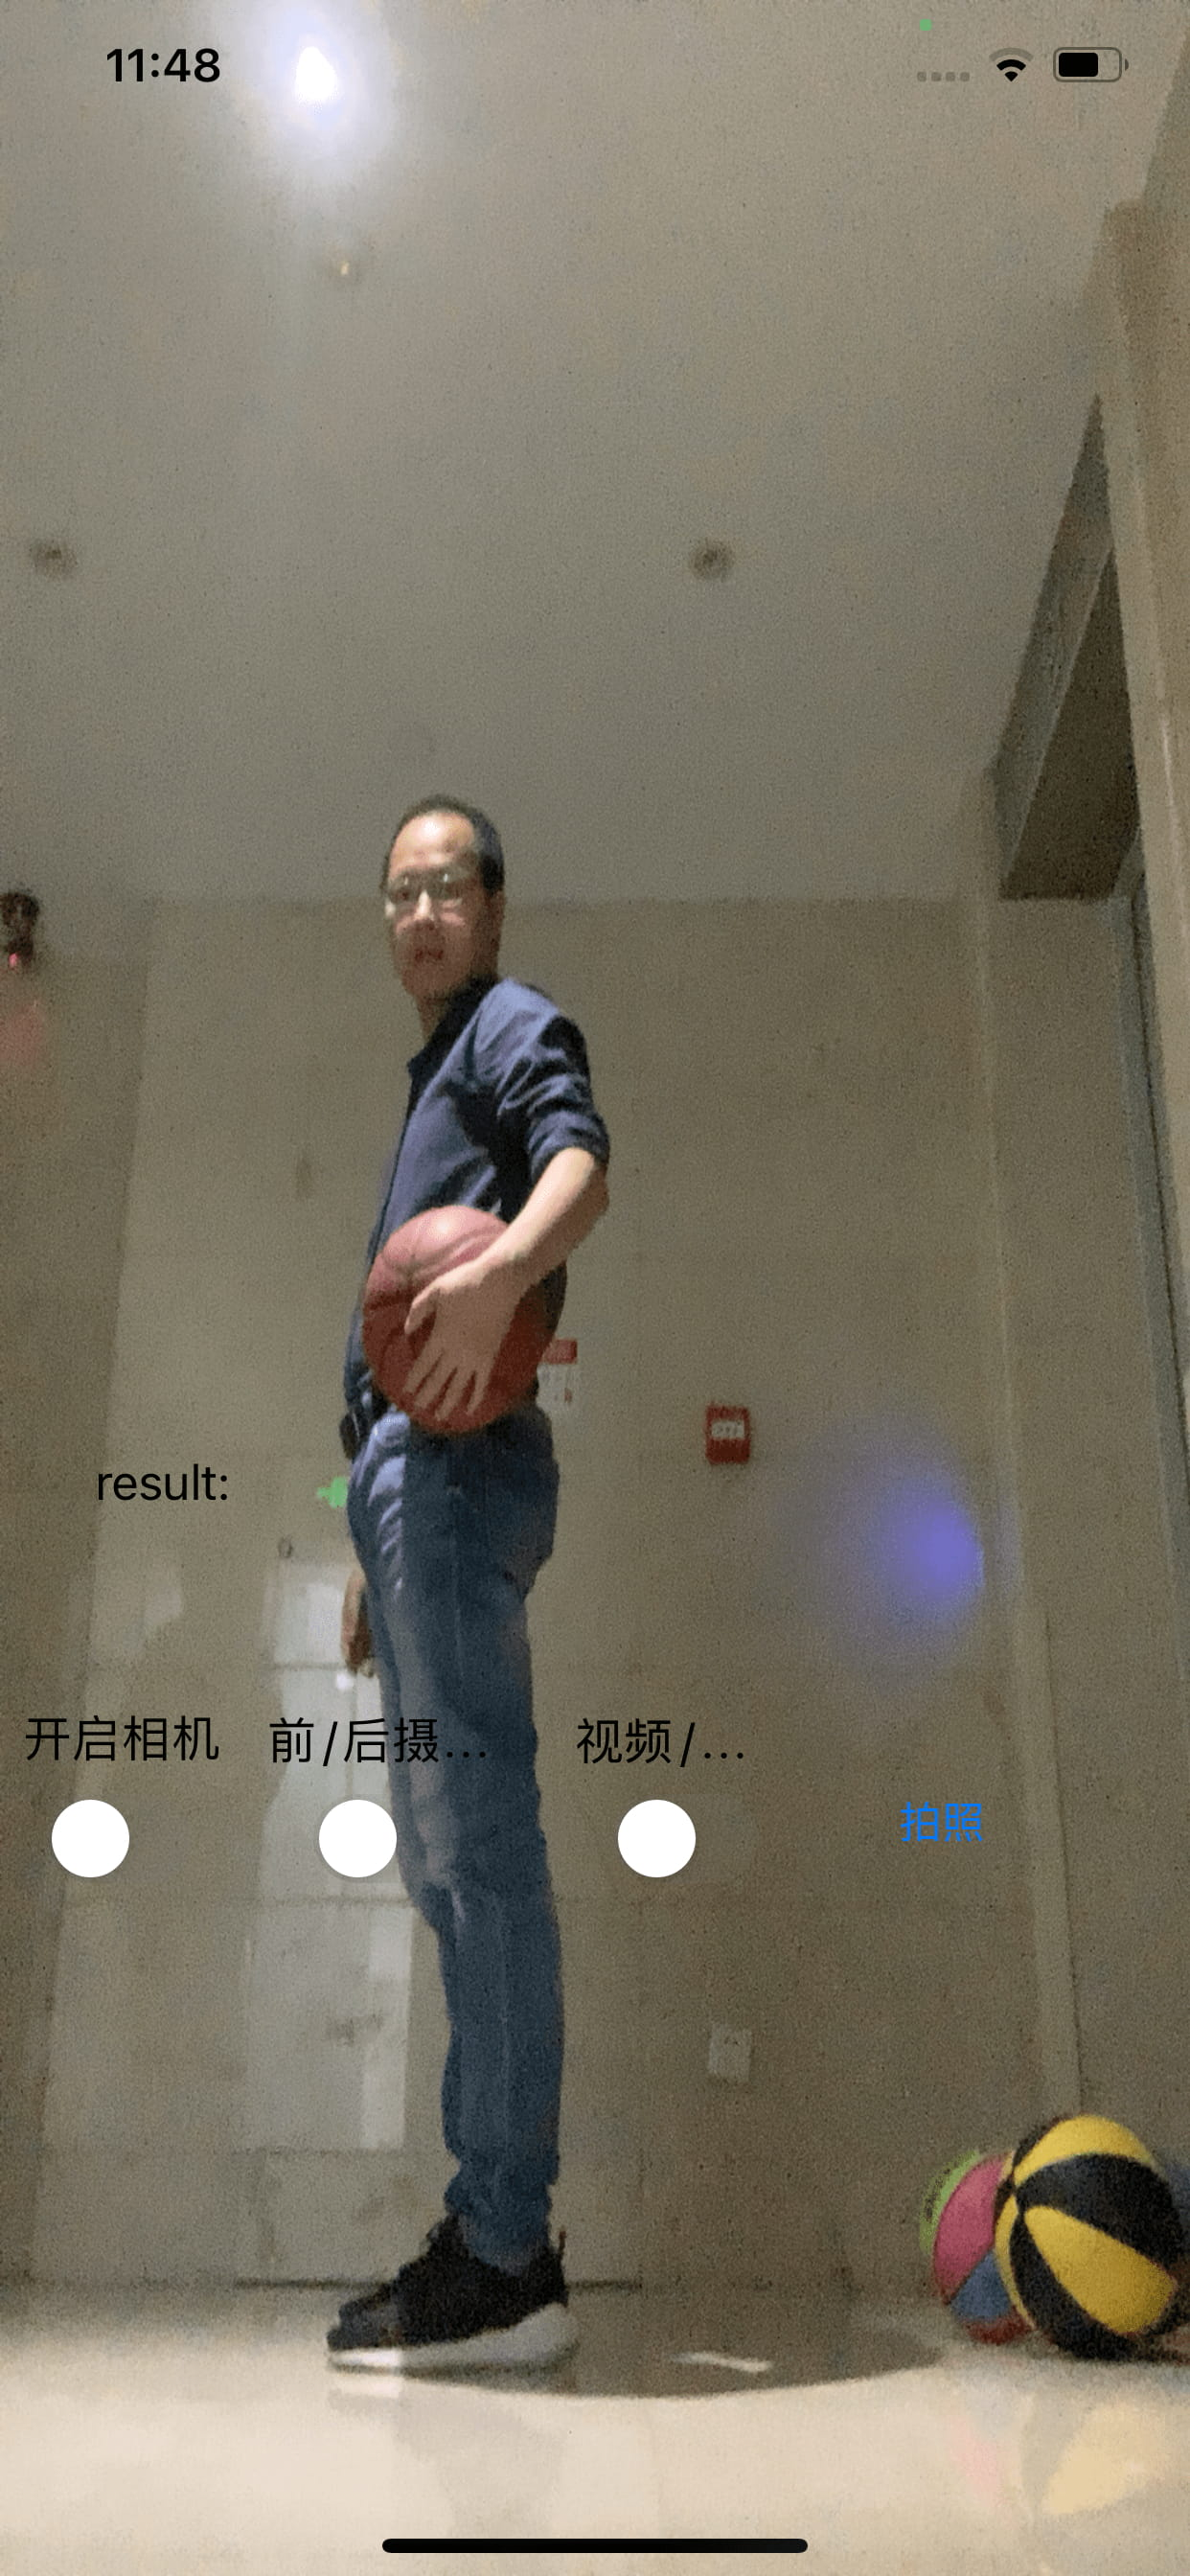ball: (998, 2108, 1183, 2362), (370, 1206, 551, 1429), (912, 2146, 1037, 2348)
